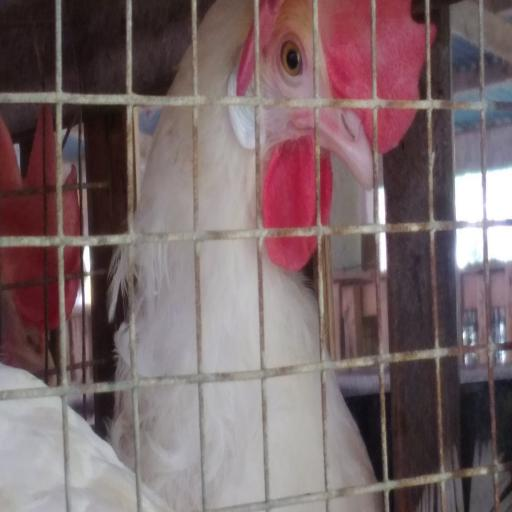healthy: (236, 0, 337, 244)
